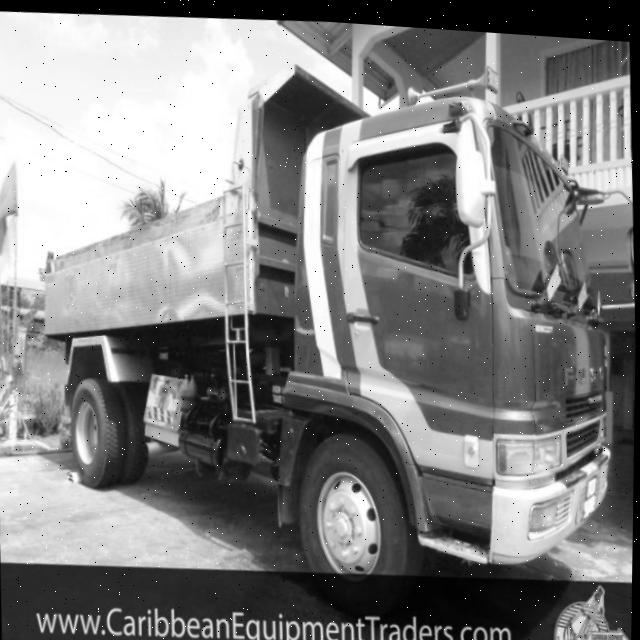truck: (253, 57, 640, 589)
